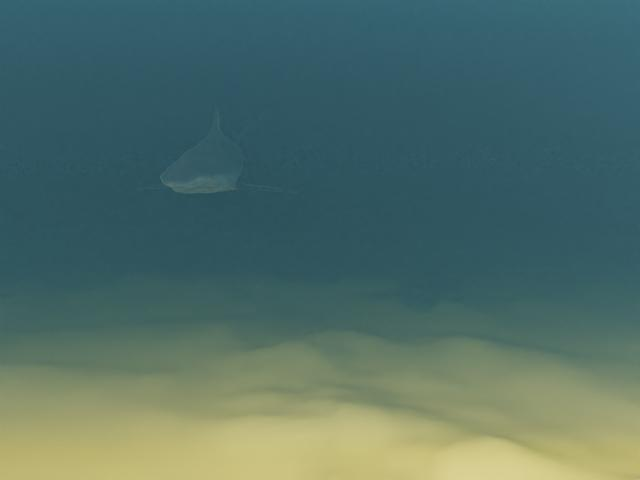Carribean Shark.001: (133, 102, 300, 193)
